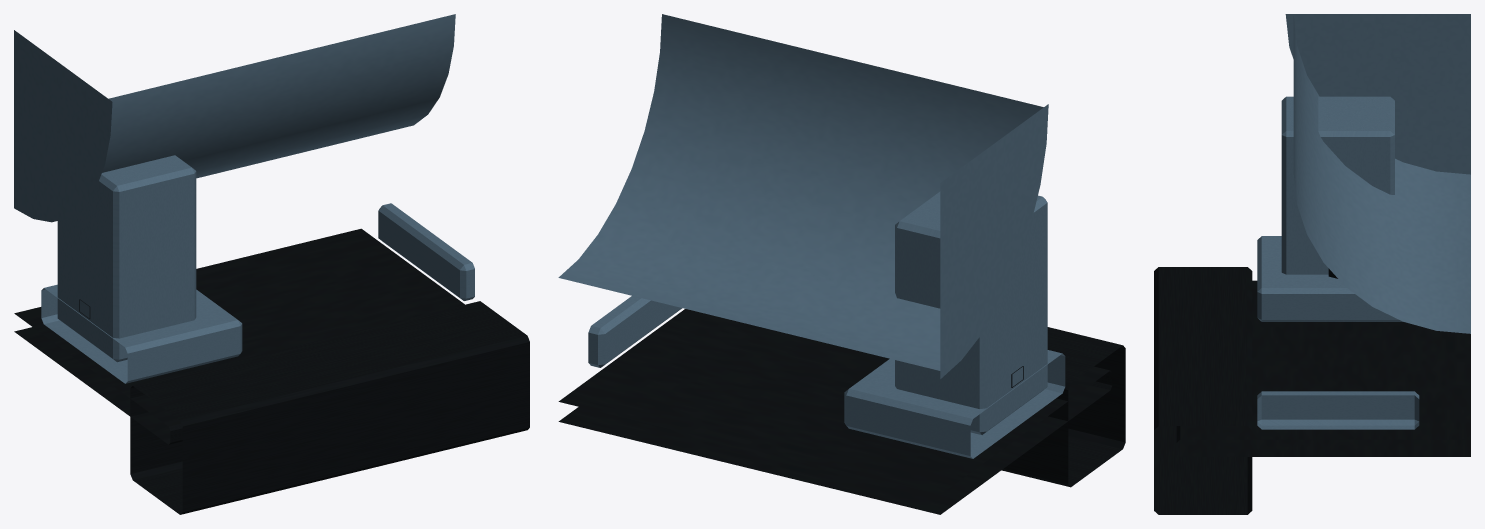
The model's file is cell_7.obj.
3 views of the same model, side by side, from view 1: azimuth 30°, elevation 25°; view 2: azimuth 150°, elevation 25°; view 3: azimuth 270°, elevation 25° (orthographic). The views are drawn at different scales.
Visible parts, largest first — view 1: cell_7; view 2: cell_7; view 3: cell_7.
Boxes of the visible parts, x1,y1,x2,y2 form: cell_7: (14, 14, 529, 514); cell_7: (558, 14, 1125, 514); cell_7: (1154, 14, 1470, 514).
Bounding box in the file's own units: 1 × 1 × 0.84.
